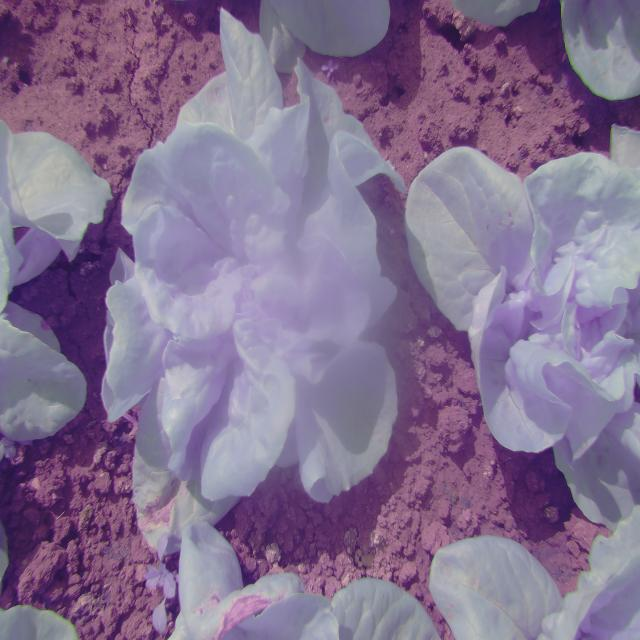vege: (95, 16, 408, 546)
